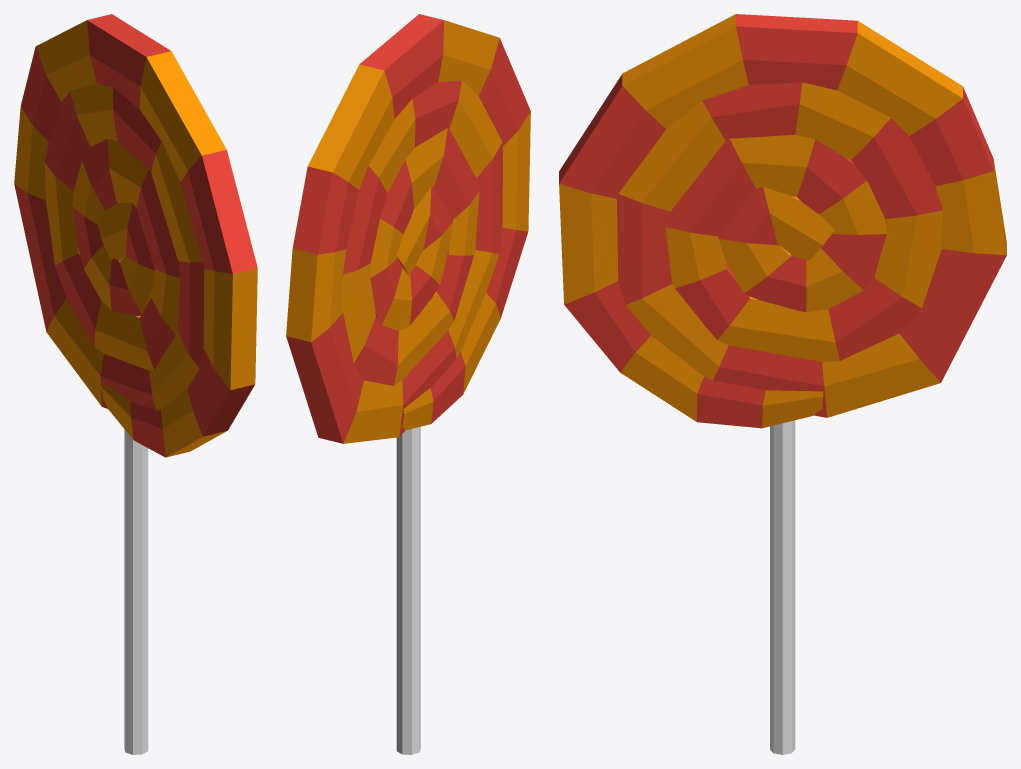
File: Lollipop_01.obj
3 views of the same model, side by side, from view 1: azimuth 30°, elevation 25°; view 2: azimuth 150°, elevation 25°; view 3: azimuth 270°, elevation 25° (orthographic). The views are drawn at different scales.
Visible parts, largest first — view 1: Circle.001; view 2: Circle.001; view 3: Circle.001.
Part boxes in pixels (left/top/right/bottom): Circle.001: left=14, top=14, right=257, bottom=754; Circle.001: left=286, top=14, right=530, bottom=754; Circle.001: left=559, top=14, right=1006, bottom=754.
Bounding box in the file's own units: 0.4379 × 9.92 × 5.52.
